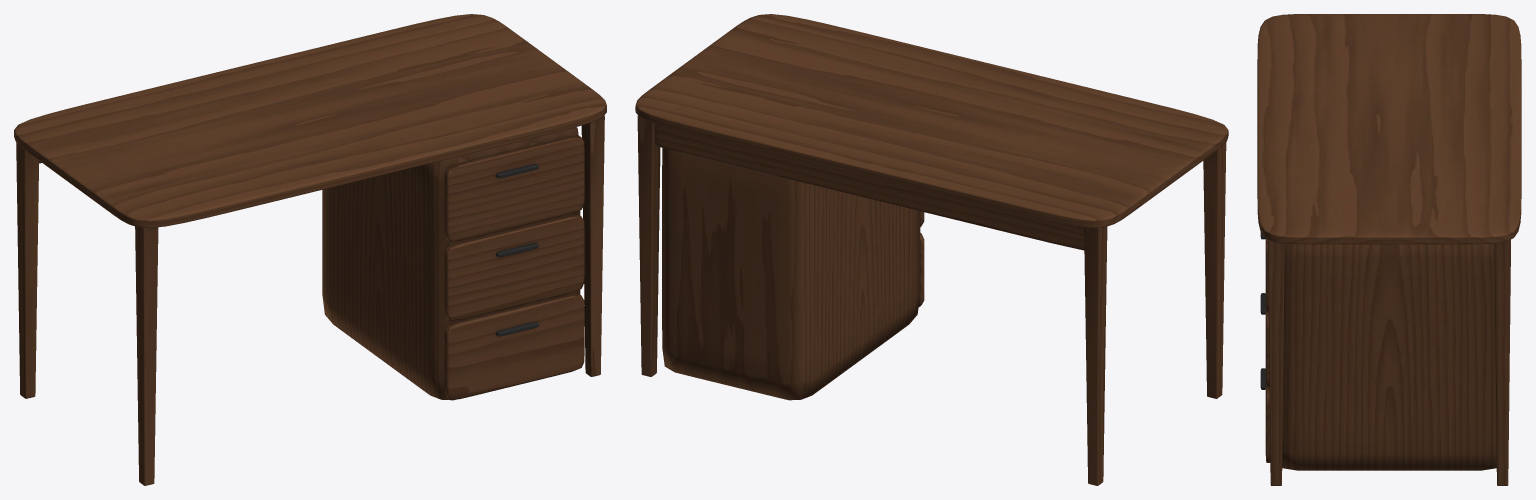
Rendered from walnut-drawers.glb.
3 renders of one model, left to right at view 1: azimuth 30°, elevation 25°; view 2: azimuth 150°, elevation 25°; view 3: azimuth 270°, elevation 25°, orthographic. The views are drawn at different scales.
Parts seen in each view (by area): view 1: wood_x, wood_v, handle_metal; view 2: wood_x, wood_v; view 3: wood_x, wood_v.
Part boxes in pixels (box(x1,y1,x2,y2)): wood_x: box(14, 14, 606, 399); wood_v: box(16, 115, 604, 485); handle_metal: box(496, 164, 538, 336); wood_x: box(635, 14, 1228, 306); wood_v: box(637, 115, 1226, 485); wood_x: box(1257, 14, 1521, 462); wood_v: box(1268, 239, 1510, 485).
Size of the model in its own units: 1.4 by 0.75 by 0.7.
Materials: 3 (3 with a texture image).
